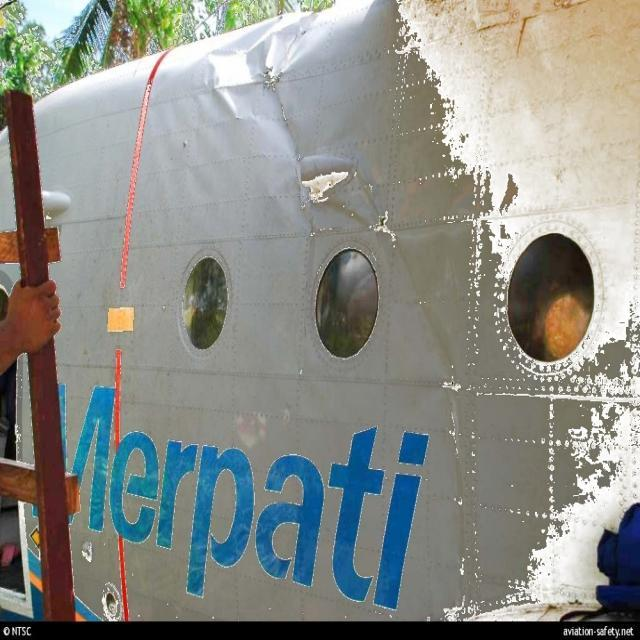crack: (258, 63, 292, 128), (374, 207, 399, 247)
dent: (210, 12, 319, 118)
